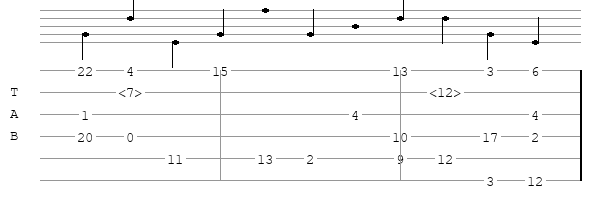0: (126, 130, 138, 143)
1: (81, 108, 93, 121)
10: (392, 130, 412, 143)
11: (167, 152, 187, 165)
12: (437, 152, 457, 165), (527, 174, 547, 187)
13: (257, 152, 277, 165), (392, 64, 412, 77)
15: (212, 64, 232, 77)
17: (482, 130, 502, 143)
2: (306, 152, 318, 165), (531, 130, 543, 143)
20: (77, 130, 97, 143)
22: (77, 64, 97, 77)
3: (486, 64, 498, 77), (486, 174, 498, 187)
4: (126, 64, 138, 77), (351, 108, 363, 121), (531, 108, 543, 121)
6: (531, 64, 543, 77)
9: (396, 152, 408, 165)
harmonic: (429, 85, 465, 99), (118, 85, 146, 99)
